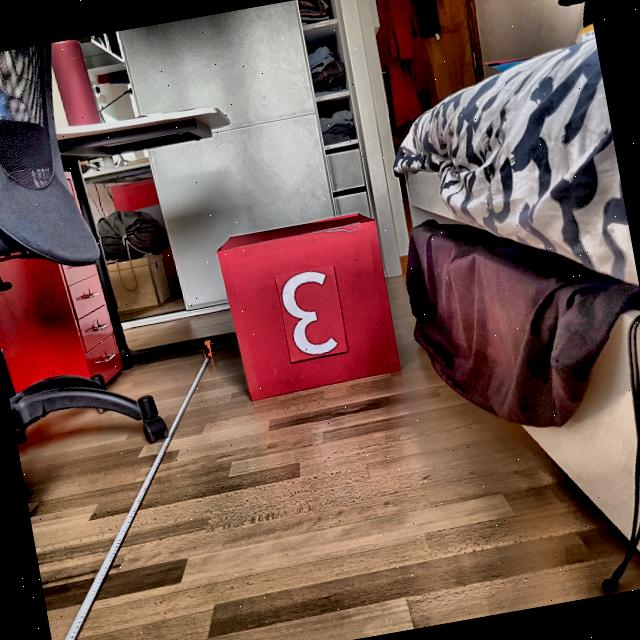red box: (214, 207, 406, 403)
three: (278, 266, 341, 360)
